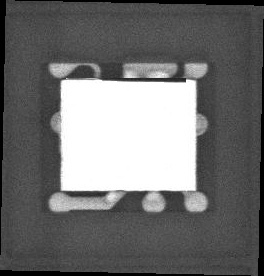DIE_BROKEN: (101, 74, 190, 83)
